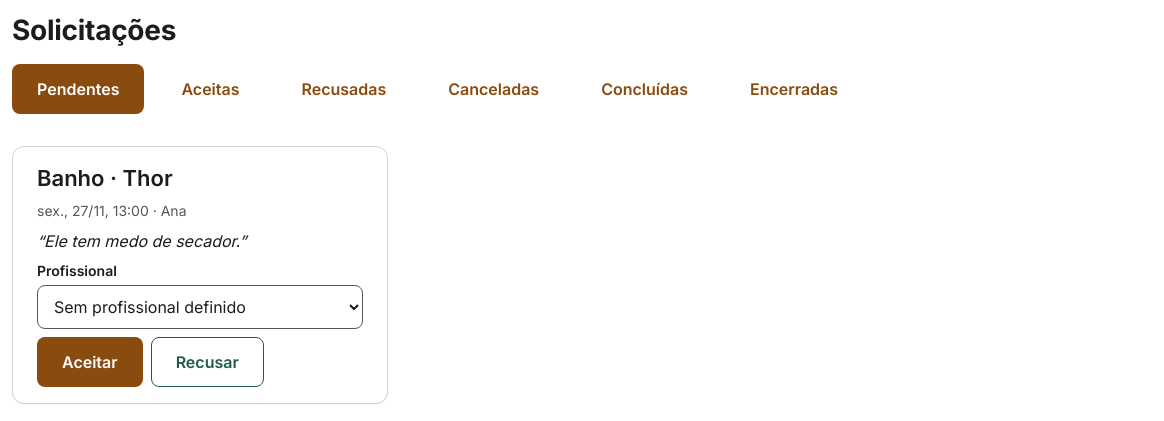
Test case: UC-41 · Solicitações pendentes na web › deve listar as recusadas com o motivo
The width and height of the screenshot is (1164, 421).
Expected: the heading "Banho · Thor" is shown, [37,165,173,191]
Step 1. Click the button "Recusadas" → coordinates (344, 89), box [276,64,411,114]
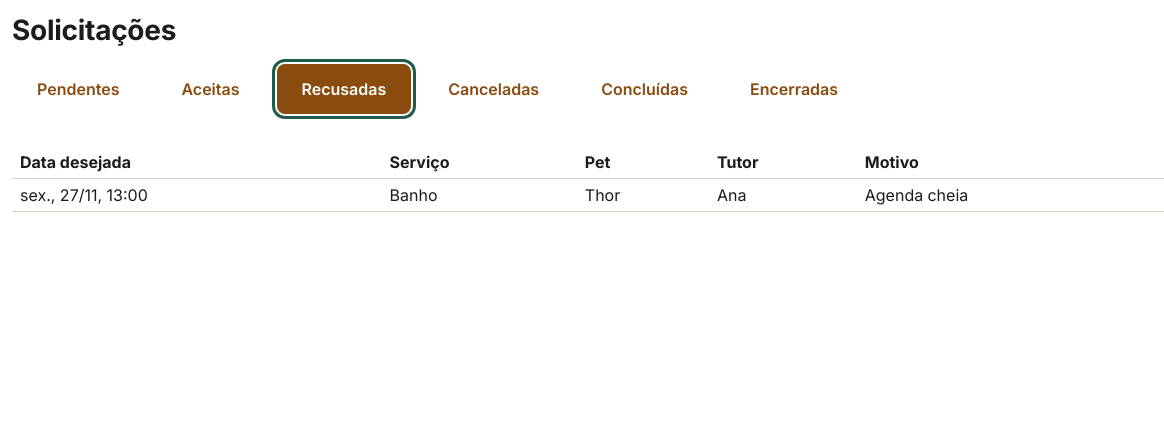
Expected: the cell "Agenda cheia" is shown, [857,178,1163,212]
